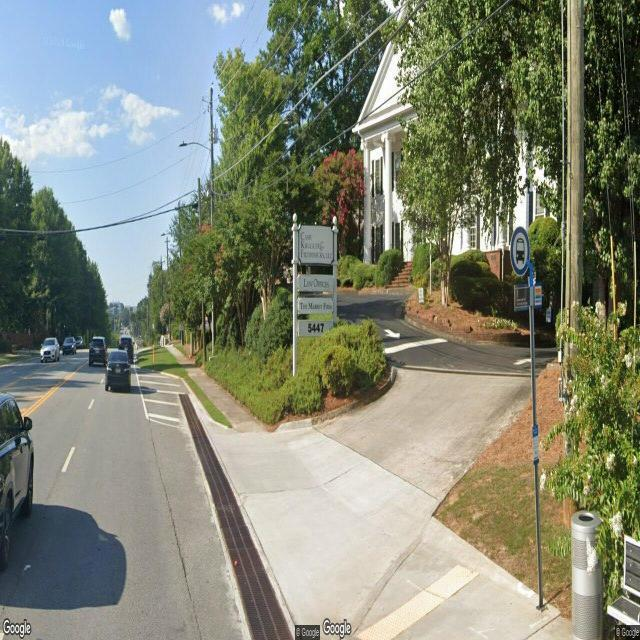seating: (606, 532, 640, 640)
trash_can: (570, 510, 603, 640)
